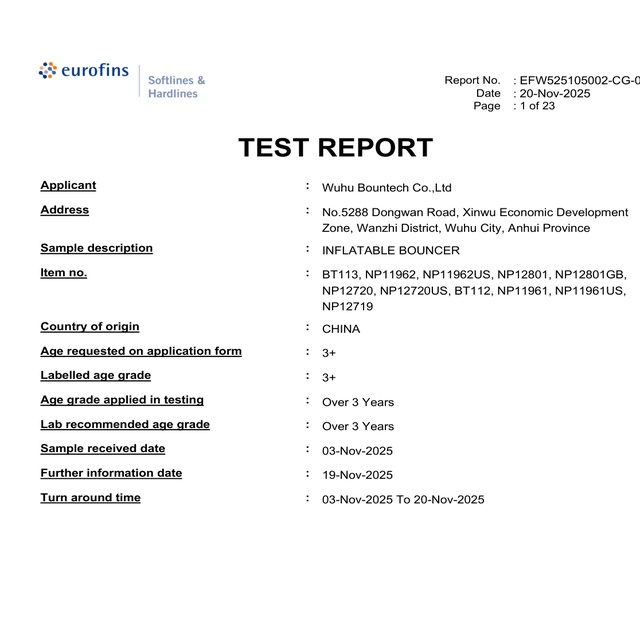eurofins: (30, 57, 134, 84)
